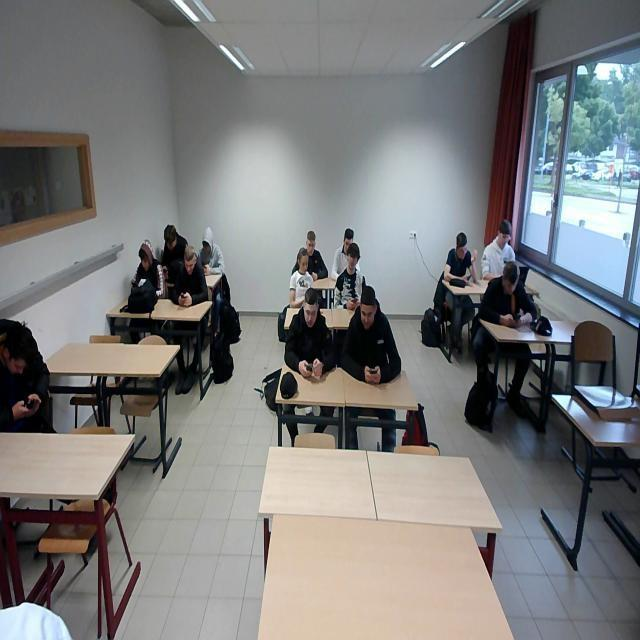phone_use: (0, 318, 52, 430), (341, 285, 399, 382), (283, 287, 334, 376), (477, 261, 535, 325), (171, 245, 206, 305), (333, 242, 364, 308), (442, 232, 476, 285), (132, 239, 163, 294), (160, 224, 186, 282), (288, 247, 311, 306), (197, 226, 222, 273), (330, 227, 352, 277), (304, 230, 326, 278)
